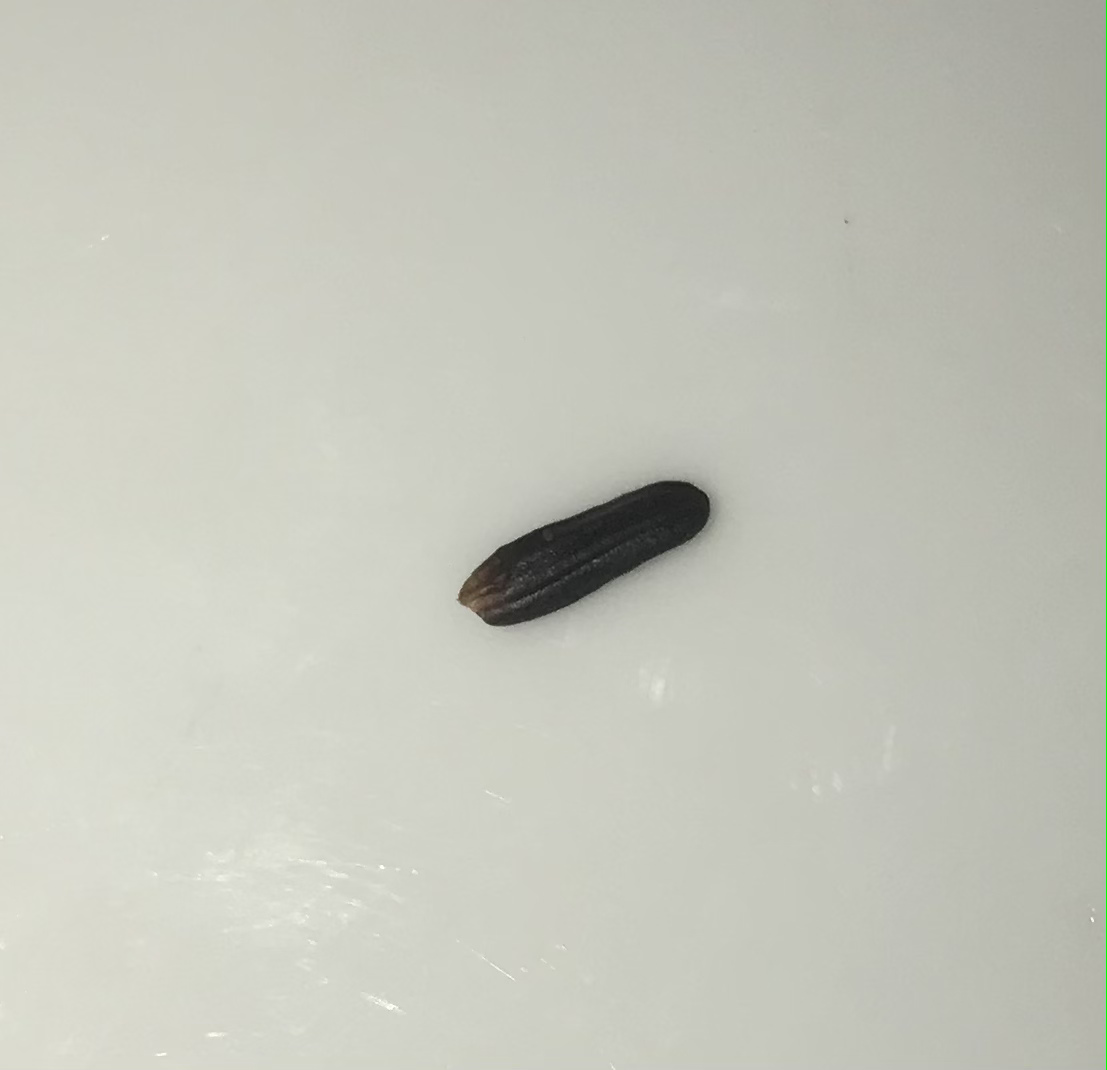Gao lut: (447, 473, 719, 650)
